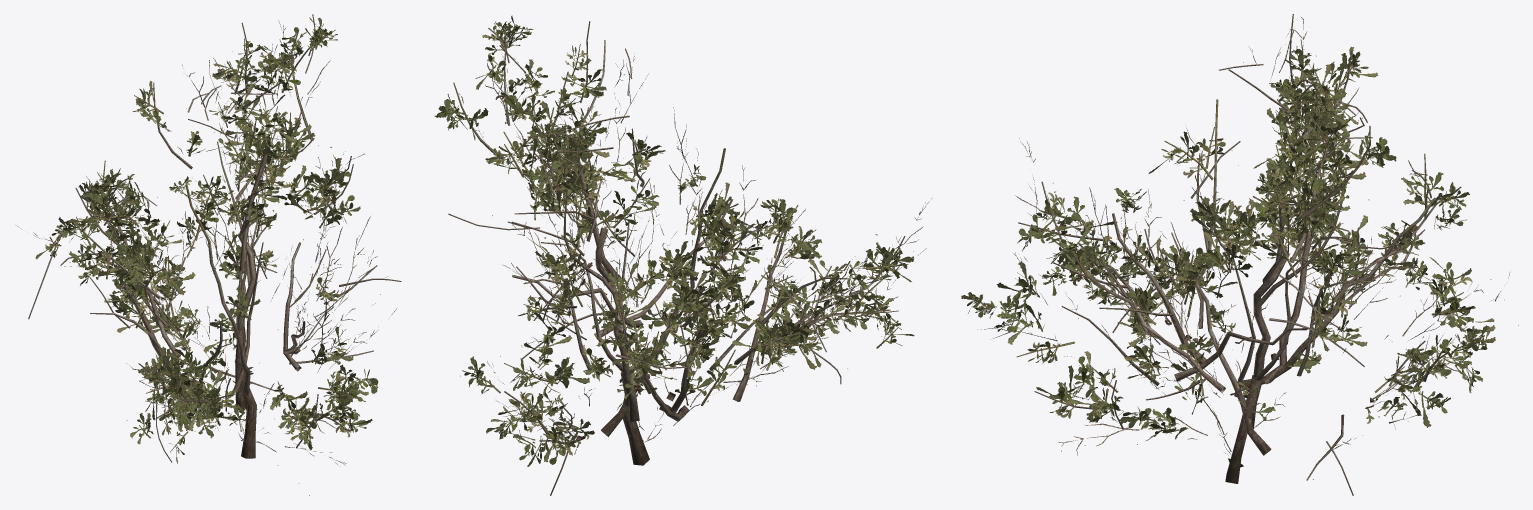
The model's file is mesquite_1.glb.
3 renders of one model, left to right at view 1: azimuth 30°, elevation 25°; view 2: azimuth 150°, elevation 25°; view 3: azimuth 270°, elevation 25°, orthographic. The views are drawn at different scales.
Parts seen in each view (by area): view 1: SCENERY_mesquite_1; view 2: SCENERY_mesquite_1; view 3: SCENERY_mesquite_1.
Part boxes in pixels (bbox=[...]): SCENERY_mesquite_1: bbox=[16, 14, 401, 495]; SCENERY_mesquite_1: bbox=[434, 15, 931, 495]; SCENERY_mesquite_1: bbox=[961, 14, 1518, 495].
Size of the model in its own units: 2.12 by 2.6 by 2.75.
3 materials, 3 textured.
